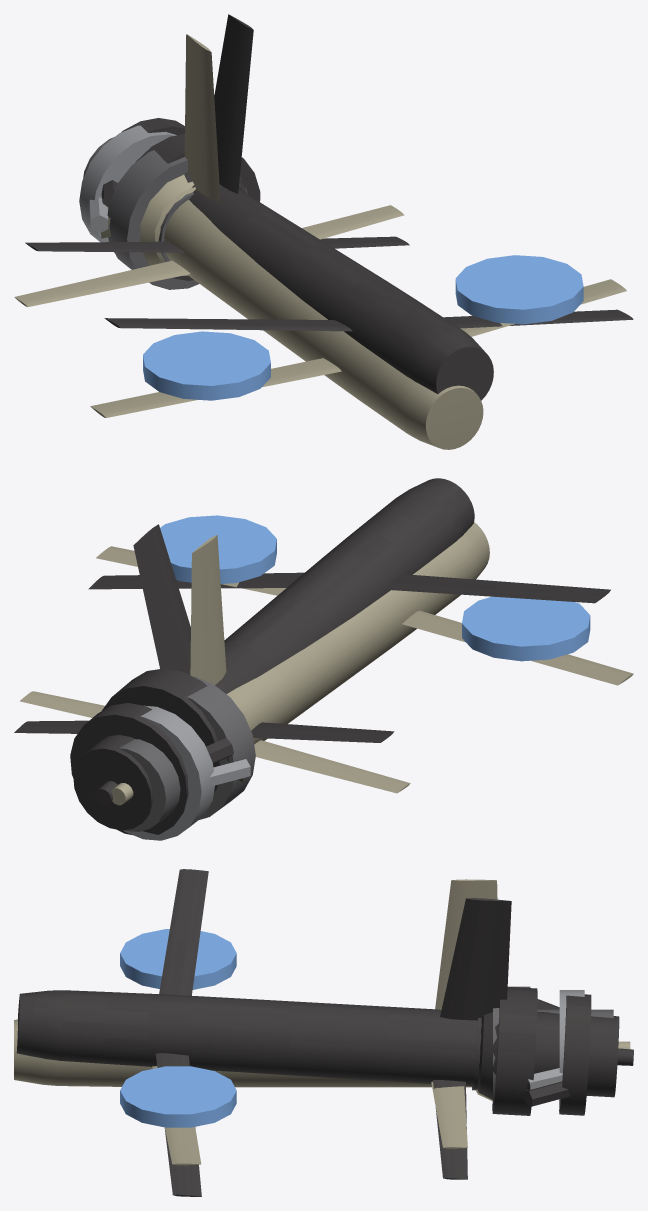
File: loiterer__switchblade_600.glb
3 views of the same model, one above another, from view 1: azimuth 30°, elevation 25°; view 2: azimuth 150°, elevation 25°; view 3: azimuth 270°, elevation 25° (orthographic). The views are drawn at different scales.
Visible parts, largest first — view 1: Fuselage_Mesh, Wreck, Propeller_Mesh; view 2: Wreck, Fuselage_Mesh, Propeller_Mesh; view 3: Wreck, Fuselage_Mesh, Propeller_Mesh.
Part boxes in pixels (<box>): Fuselage_Mesh: <box>14,34,626,449</box>; Wreck: <box>25,14,633,400</box>; Propeller_Mesh: <box>79,125,247,289</box>; Wreck: <box>14,478,610,834</box>; Fuselage_Mesh: <box>20,515,633,793</box>; Propeller_Mesh: <box>111,676,255,840</box>; Wreck: <box>16,869,633,1196</box>; Fuselage_Mesh: <box>14,879,497,1165</box>; Propeller_Mesh: <box>472,986,630,1109</box>.
Size of what is drawn, in the model's own units: 1.32 by 0.6134 by 1.49.
